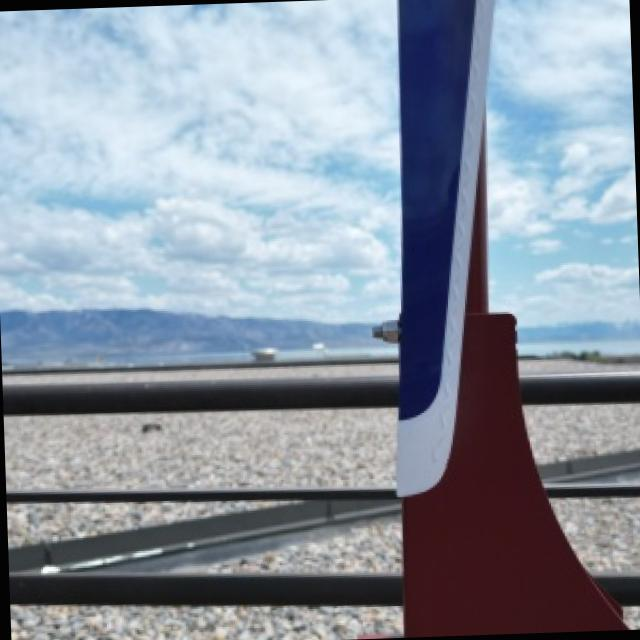healthy: (12, 605, 401, 640)
